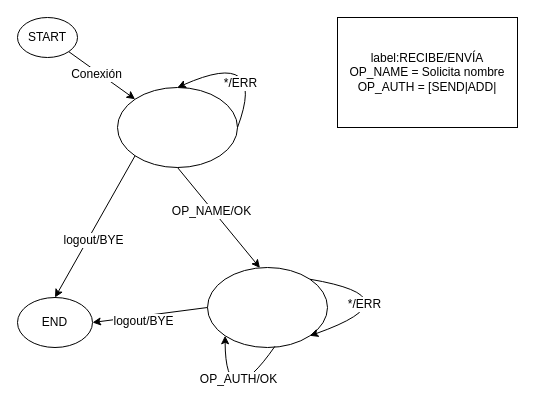
Image size: 535x404. Some labels were removed from this diagram. Each missing label, with the centre of its shape:
Con nombre: pixel 267 307
Sin nombre: pixel 177 127
